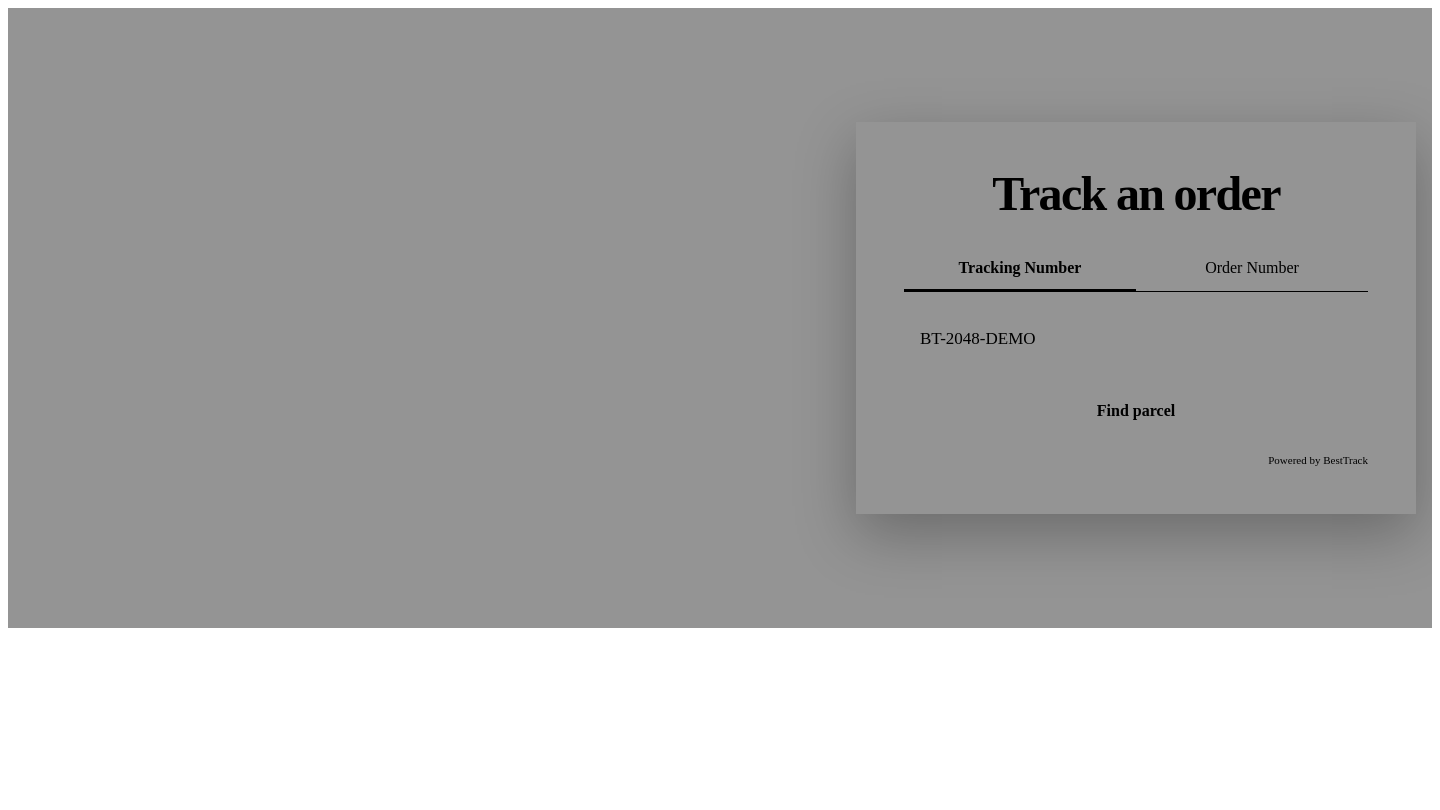
it: Sales uses the Ready-to-go foundation › hides recommendations without an independent source and shows no demo data on an empty lookup
Replace the text in the field named "Sales tracking number" with "MISSING" at point(1136, 339), box [904, 310, 1368, 368]
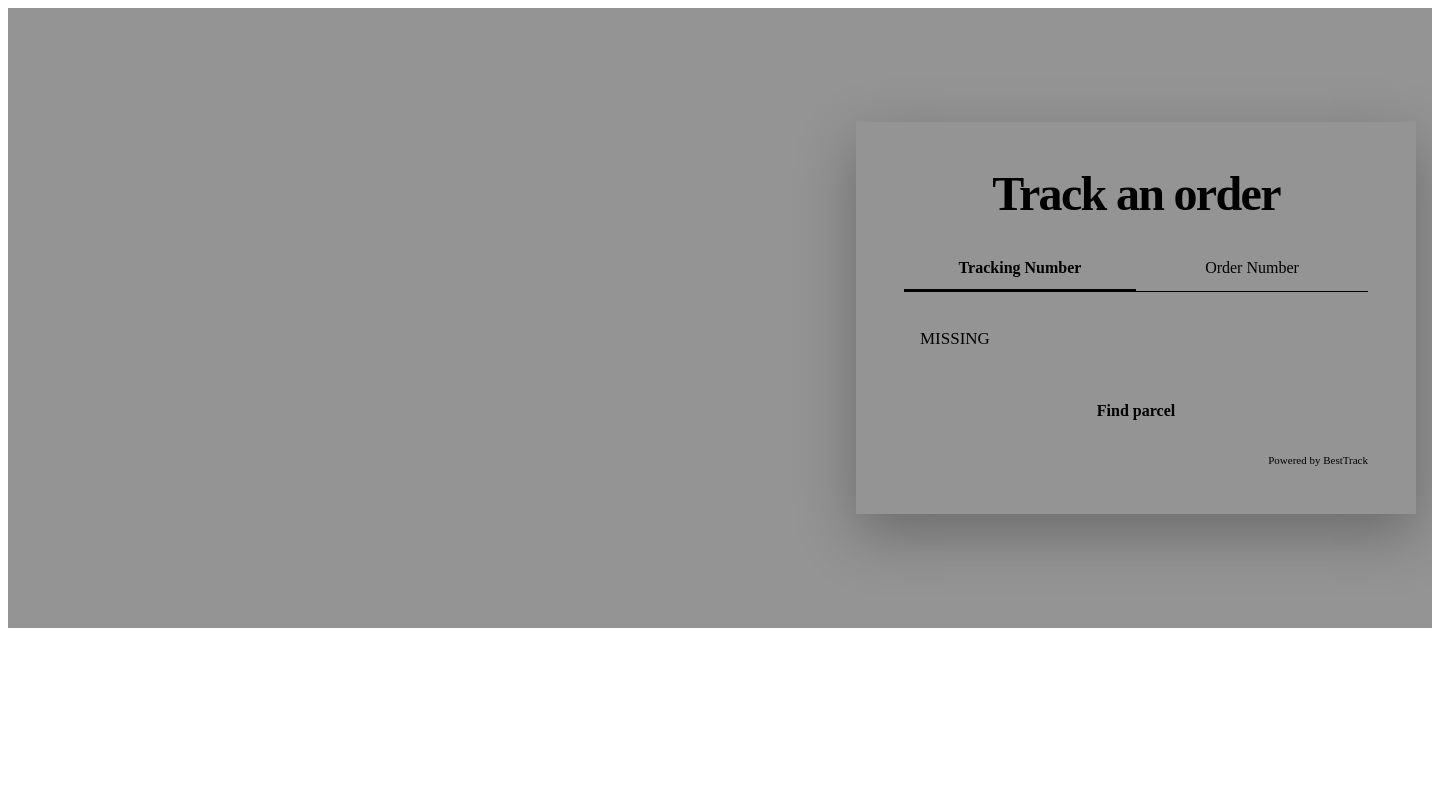
Click the button "Find parcel" at point(1136, 411), box [904, 382, 1368, 440]
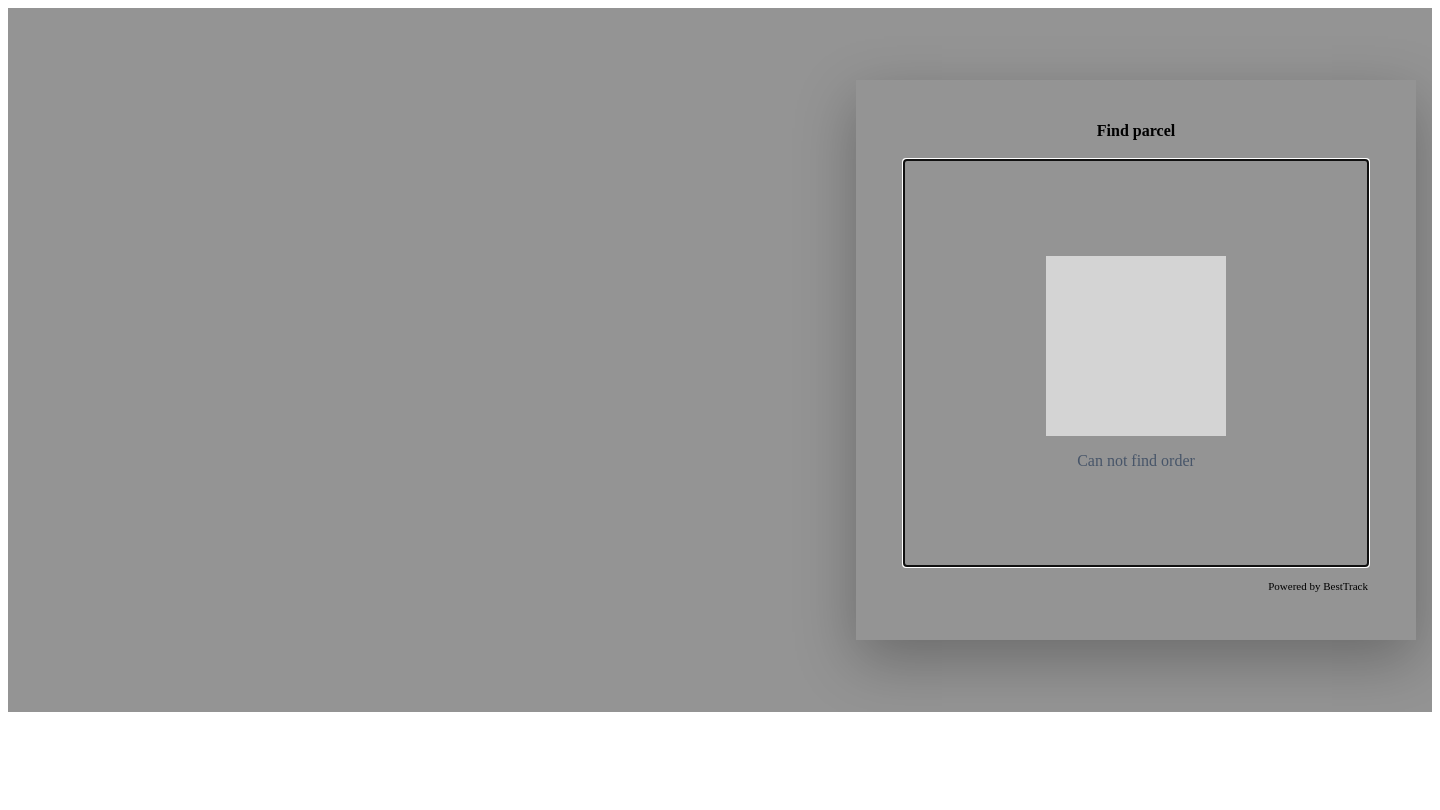
Result: the text "Can not find order" is shown at [1077, 452, 1195, 470]
